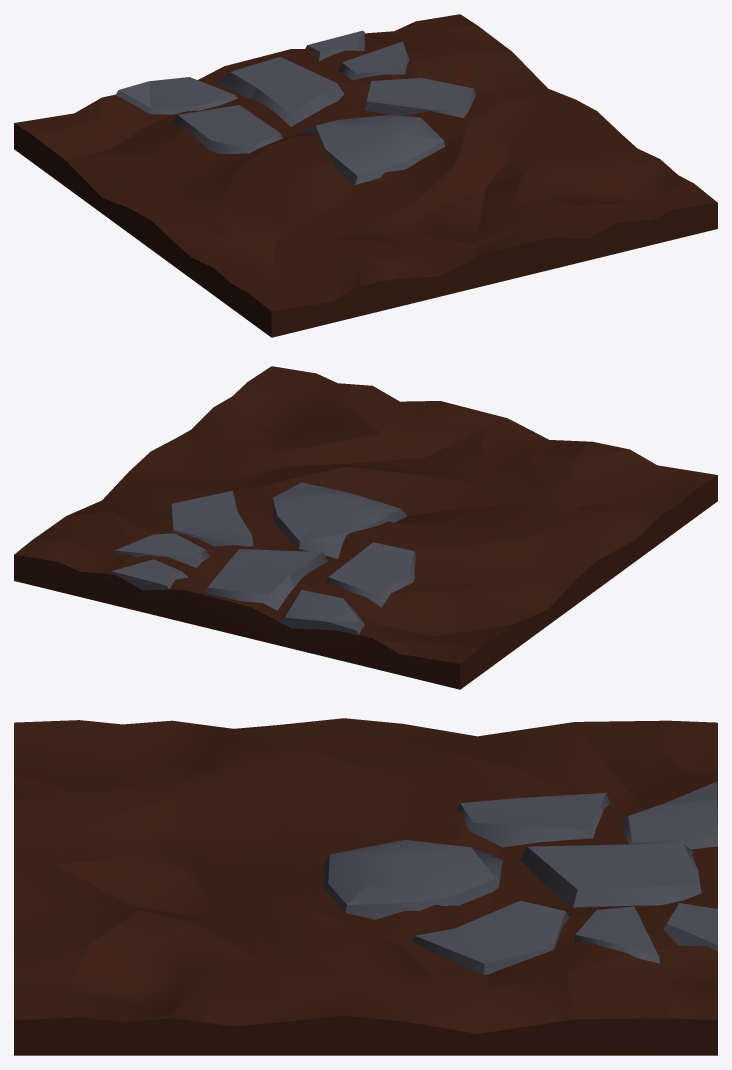
File: Ground_Stone_Path_Ending_B.fbx
The picture shows the model from 3 angles, top to bottom: view 1: azimuth 30°, elevation 25°; view 2: azimuth 150°, elevation 25°; view 3: azimuth 270°, elevation 25°; orthographic projection. The views are drawn at different scales.
Parts seen in each view (by area): view 1: Ground_Stone_Path_Ending_B; view 2: Ground_Stone_Path_Ending_B; view 3: Ground_Stone_Path_Ending_B.
Boxes of the visible parts, x1,y1,x2,y2 form: Ground_Stone_Path_Ending_B: (14,14,717,337); Ground_Stone_Path_Ending_B: (14,366,717,689); Ground_Stone_Path_Ending_B: (14,718,717,1055).
Size of the model in its own units: 147 by 14.98 by 147.
